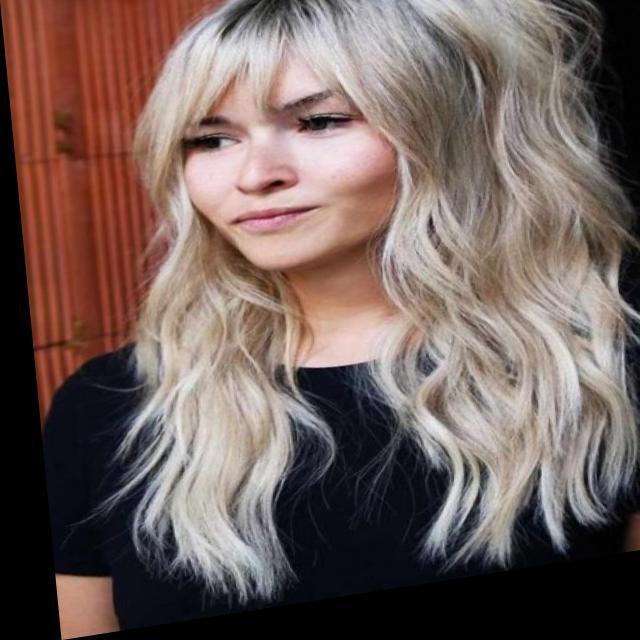Nonhelmet: (134, 0, 483, 276)
